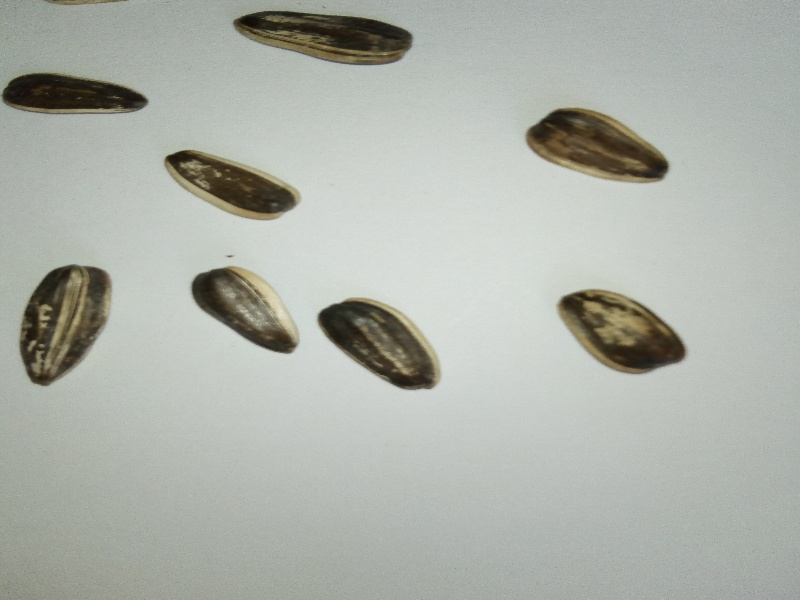girasol: (550, 283, 692, 384), (11, 260, 119, 391), (519, 101, 675, 190), (314, 293, 448, 396), (226, 6, 415, 74), (159, 145, 307, 230), (182, 259, 303, 361), (2, 67, 154, 123)
